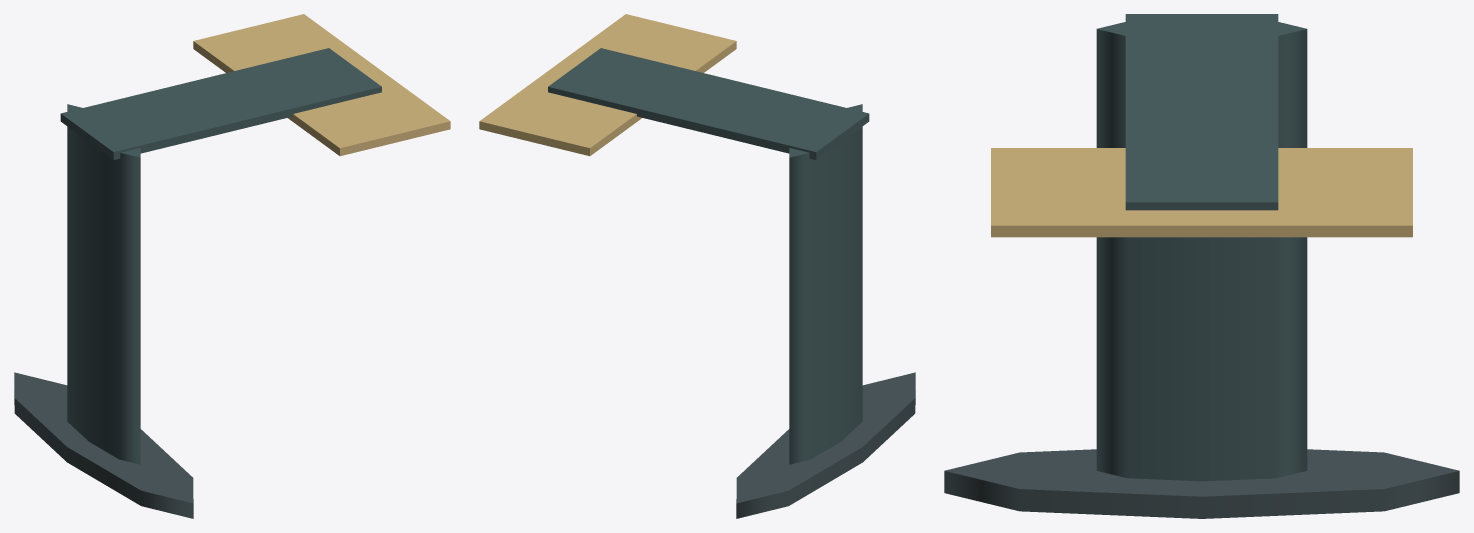
The model's file is lamp.glb.
The picture shows the model from 3 angles, left to right: view 1: azimuth 30°, elevation 25°; view 2: azimuth 150°, elevation 25°; view 3: azimuth 270°, elevation 25°; orthographic projection. The views are drawn at different scales.
Visible parts, largest first — view 1: lamp_body; view 2: lamp_body; view 3: lamp_body.
Boxes of the visible parts, bbox=[...] form: lamp_body: bbox=[14, 14, 450, 518]; lamp_body: bbox=[479, 14, 915, 518]; lamp_body: bbox=[944, 14, 1459, 518].
Size of the model in its own units: 1 by 1 by 1.
